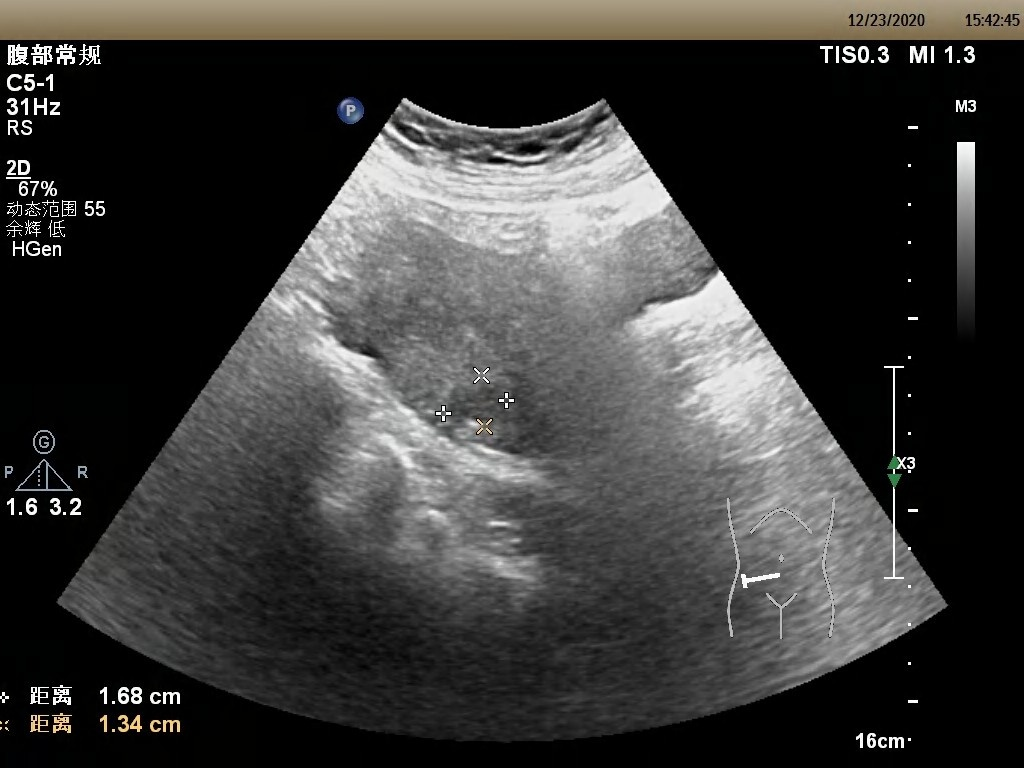肌瘤: (445, 383, 507, 424)
